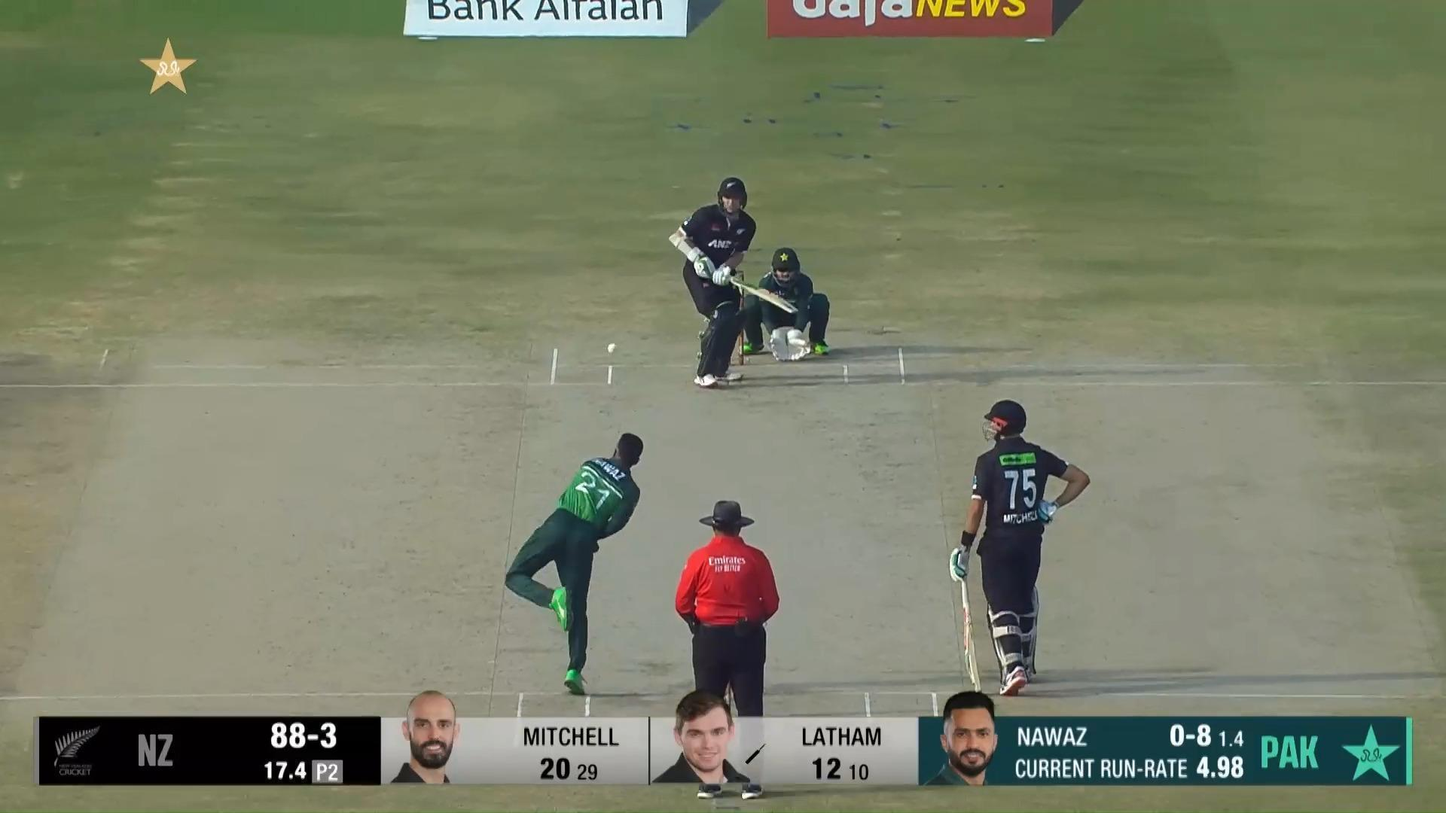BM 1: (668, 176, 800, 389)
BO: (504, 434, 645, 695)
